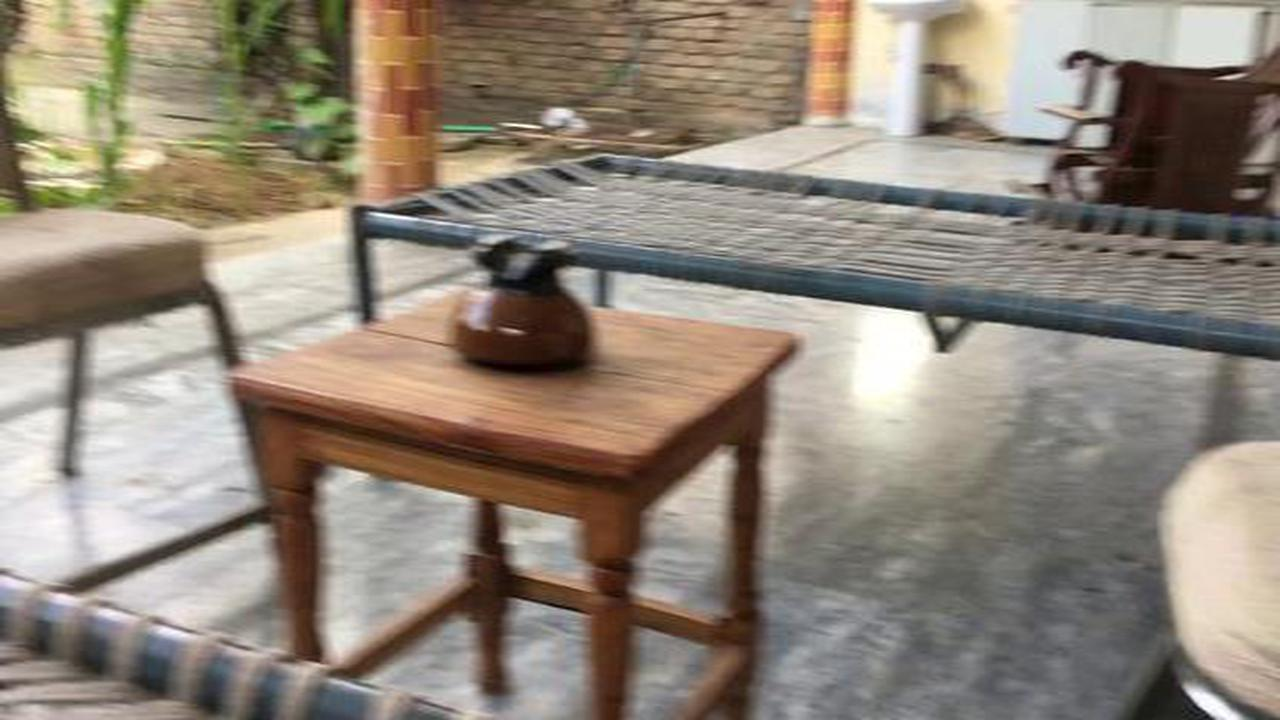insulator_pin: (431, 214, 619, 385)
